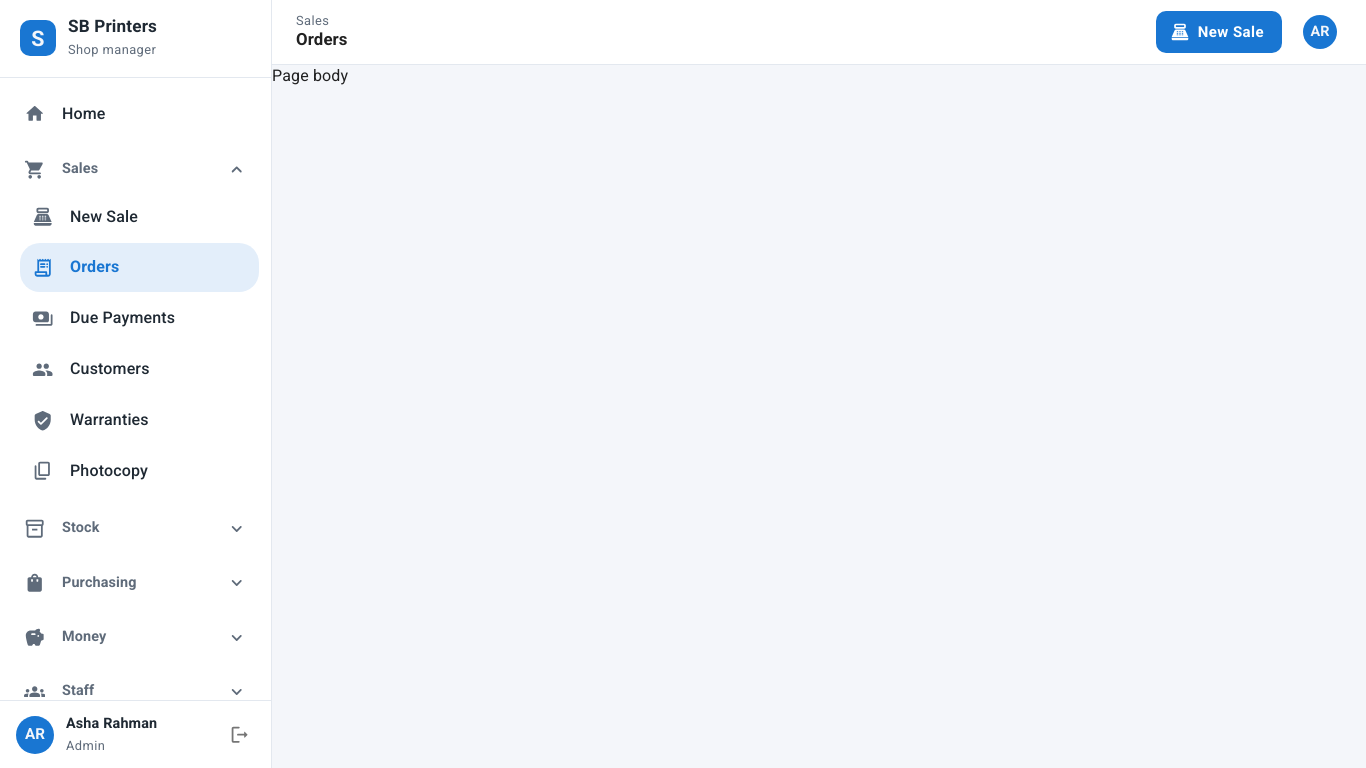
Layout › navigates when a menu item is clicked
This screenshot has width=1366, height=768.
Click the button "Customers": (91, 370) [32,359,150,380]
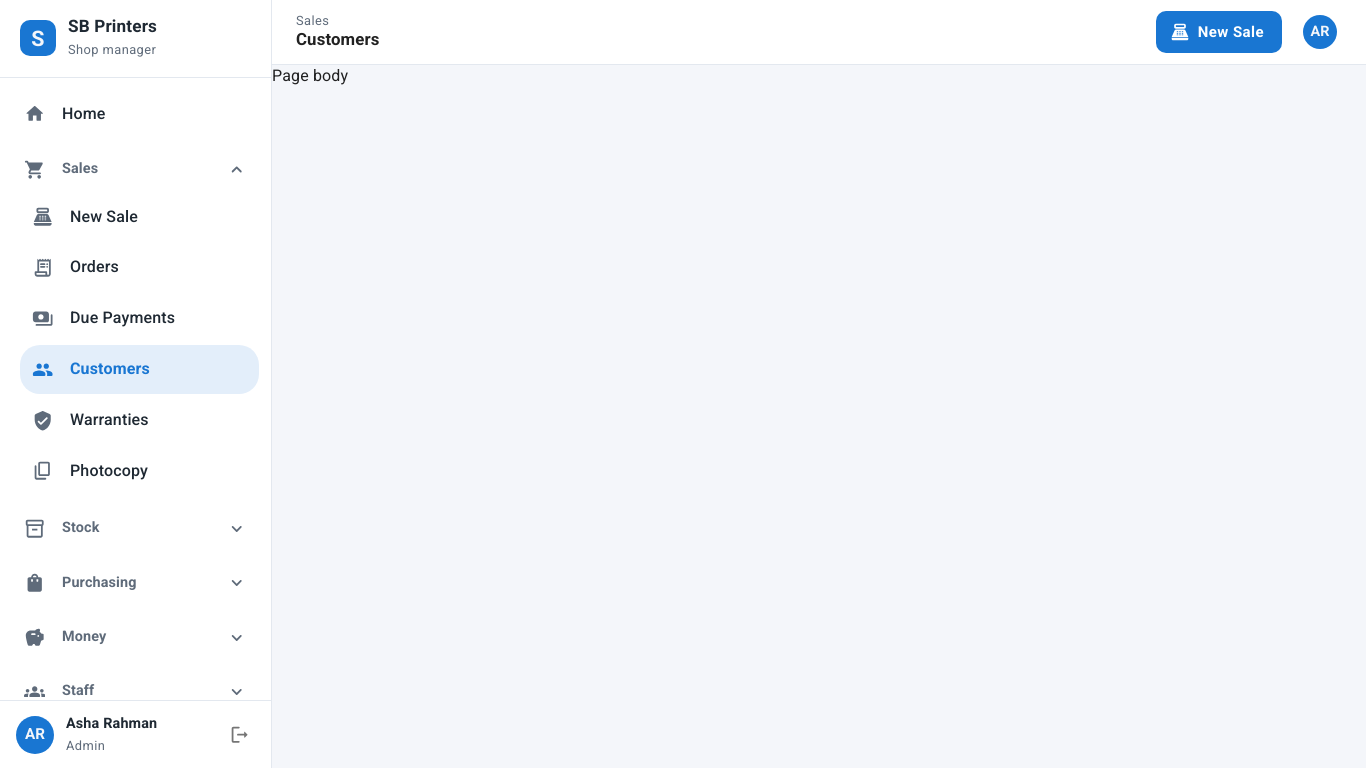
Now the heading "Customers" is shown, box [296,29,379,49]
